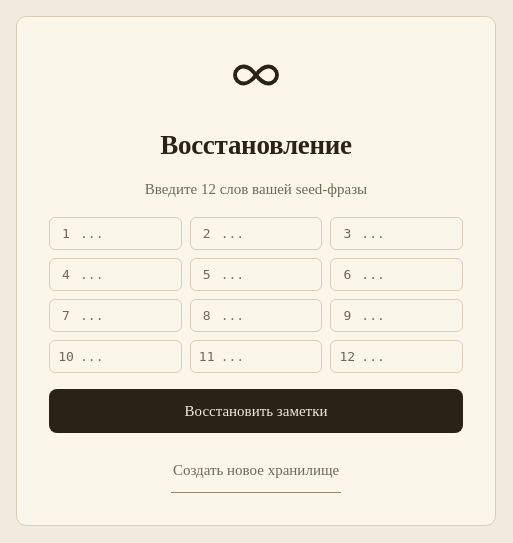
Restore — nothing races the restore › the seed grid and navigation are locked on the seed step too
Type "alpha bravo charlie delta echo foxtrot golf hotel india juliet kilo lima" into the field named "Слово 1 из 12" at (126,234), box [80, 222, 173, 245]
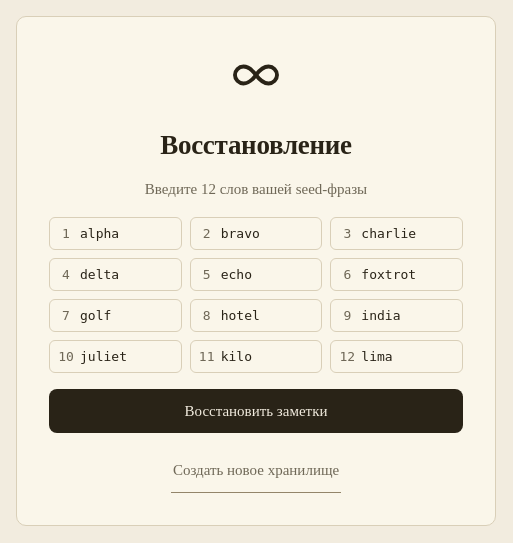
Click the button "Восстановить заметки" at (256,411), box [49, 389, 463, 433]
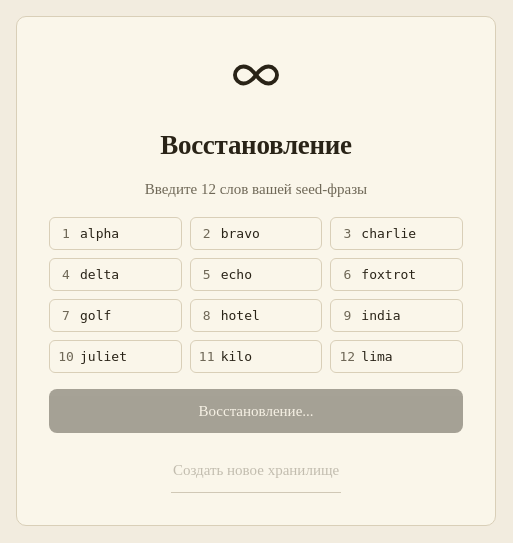
Expected: the field named "Слово 1 из 12" is disabled, [80, 222, 173, 245]
Now the button "Создать новое хранилище" is disabled, box [171, 449, 341, 493]
